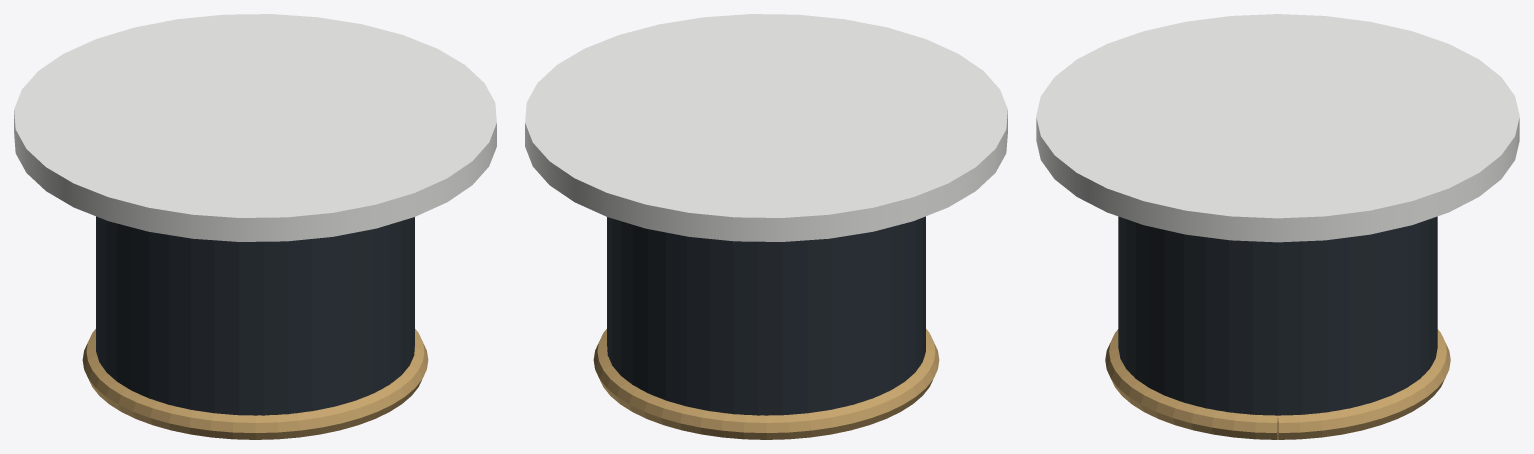
The model's file is recessed-gimbal.glb.
The picture shows the model from 3 angles, left to right: view 1: azimuth 30°, elevation 25°; view 2: azimuth 150°, elevation 25°; view 3: azimuth 270°, elevation 25°; orthographic projection.
Visible parts, largest first — view 1: recessed-gimbal authored assembly; view 2: recessed-gimbal authored assembly; view 3: recessed-gimbal authored assembly.
Boxes of the visible parts, left/top/right/bottom form: recessed-gimbal authored assembly: left=14, top=14, right=496, bottom=439; recessed-gimbal authored assembly: left=525, top=14, right=1007, bottom=439; recessed-gimbal authored assembly: left=1036, top=14, right=1519, bottom=439.
Size of the model in its own units: 0.11 by 0.065 by 0.11.
